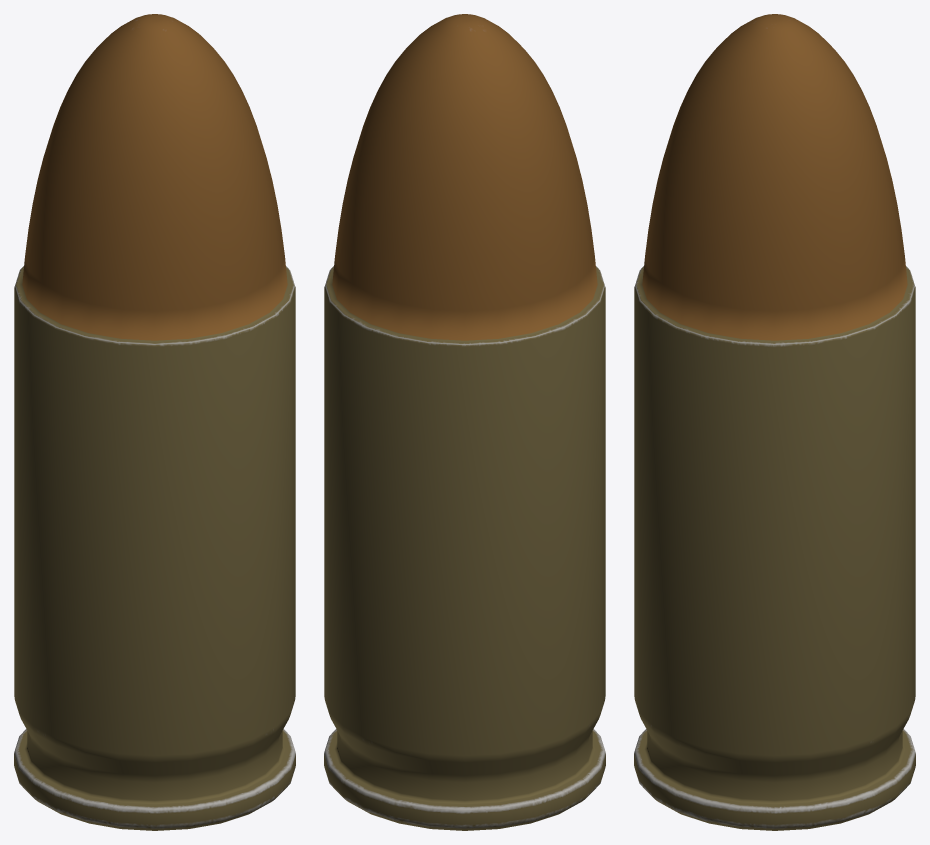
Rendered from bullet.glb.
3 views of the same model, side by side, from view 1: azimuth 30°, elevation 25°; view 2: azimuth 150°, elevation 25°; view 3: azimuth 270°, elevation 25° (orthographic).
Visible parts, largest first — view 1: Bullet; view 2: Bullet; view 3: Bullet.
Part boxes in pixels (x1=…): Bullet: x1=14, y1=14, x2=295, y2=830; Bullet: x1=324, y1=14, x2=605, y2=830; Bullet: x1=634, y1=14, x2=915, y2=830.
Bounding box in the file's own units: 0.0994 × 0.2948 × 0.0994.
Materials: 1 (1 with a texture image).
